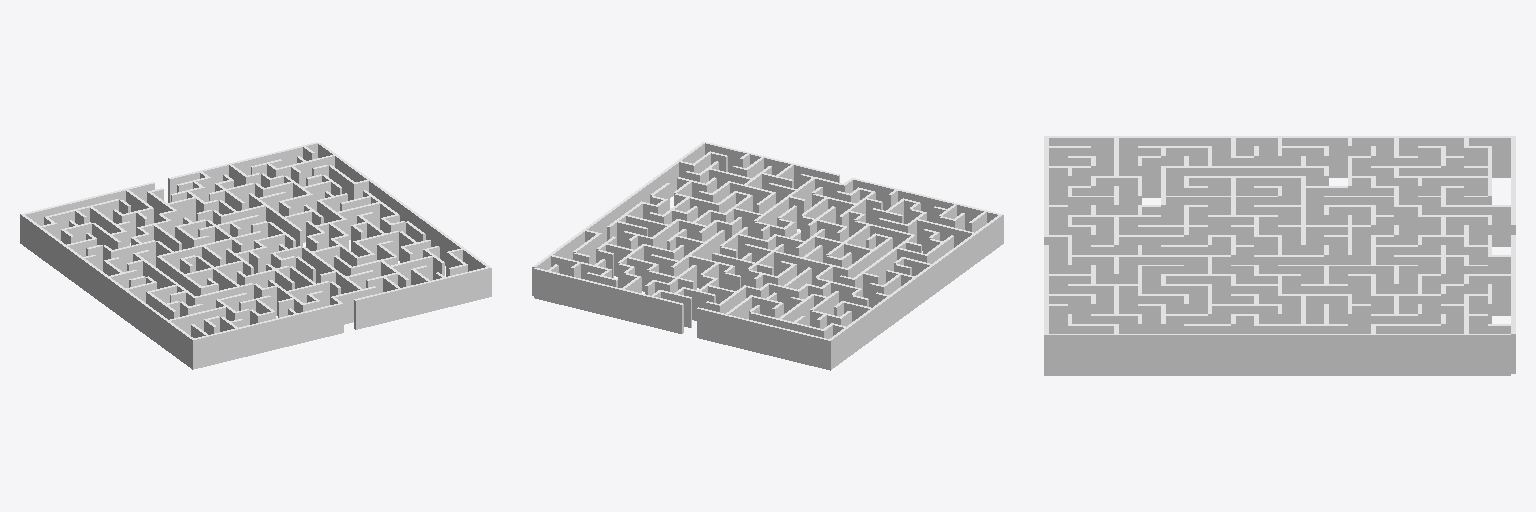
robot.urdf — tmaze.urdf:
<?xml version="0.0" ?>
<robot name="tmaze.urdf">
  <link  name="baseLink">
    <inertial>
      <origin rpy="0 0 0" xyz="0 0 0"/>
       <mass value="0"/>
       <inertia ixx="0" ixy="0" ixz="0" iyy="0" iyz="0" izz="0" />
    </inertial>
    <visual>
      <origin rpy="1.5707963 0 0" xyz="0 0 0"/>
      <geometry>
		    <mesh filename="complex_maze_1.obj" scale="1 1 1"/>
      </geometry>
		  <material name="white">
          <color rgba="1 1 1 1"/>
      </material>
    </visual>
    <collision>
      <origin rpy="1.5707963 0 0" xyz="0 0 0"/>
      <geometry>
          <mesh filename="complex_maze_1.obj" scale="1 1 1"/>
      </geometry>
    </collision>
  </link>
</robot>

--- Render facts (derived) ---
3 views of the same robot in one strip: view 1: azimuth 30°, elevation 25°; view 2: azimuth 150°, elevation 25°; view 3: azimuth 270°, elevation 25° (orthographic).
Robot: tmaze.urdf — 1 links, 0 joints (none); root link baseLink; default pose: all joints at 0.
Visible links, largest first — view 1: baseLink; view 2: baseLink; view 3: baseLink.
Boxes of the visible links, <box> form: baseLink: <box>20,142,491,369</box>; baseLink: <box>532,142,1003,370</box>; baseLink: <box>1044,136,1515,375</box>.
Size in the robot's own frame: 10.08 by 10.08 by 2.88 metres.
1 mesh visuals loaded from 1 distinct referenced files (1 OBJ).
